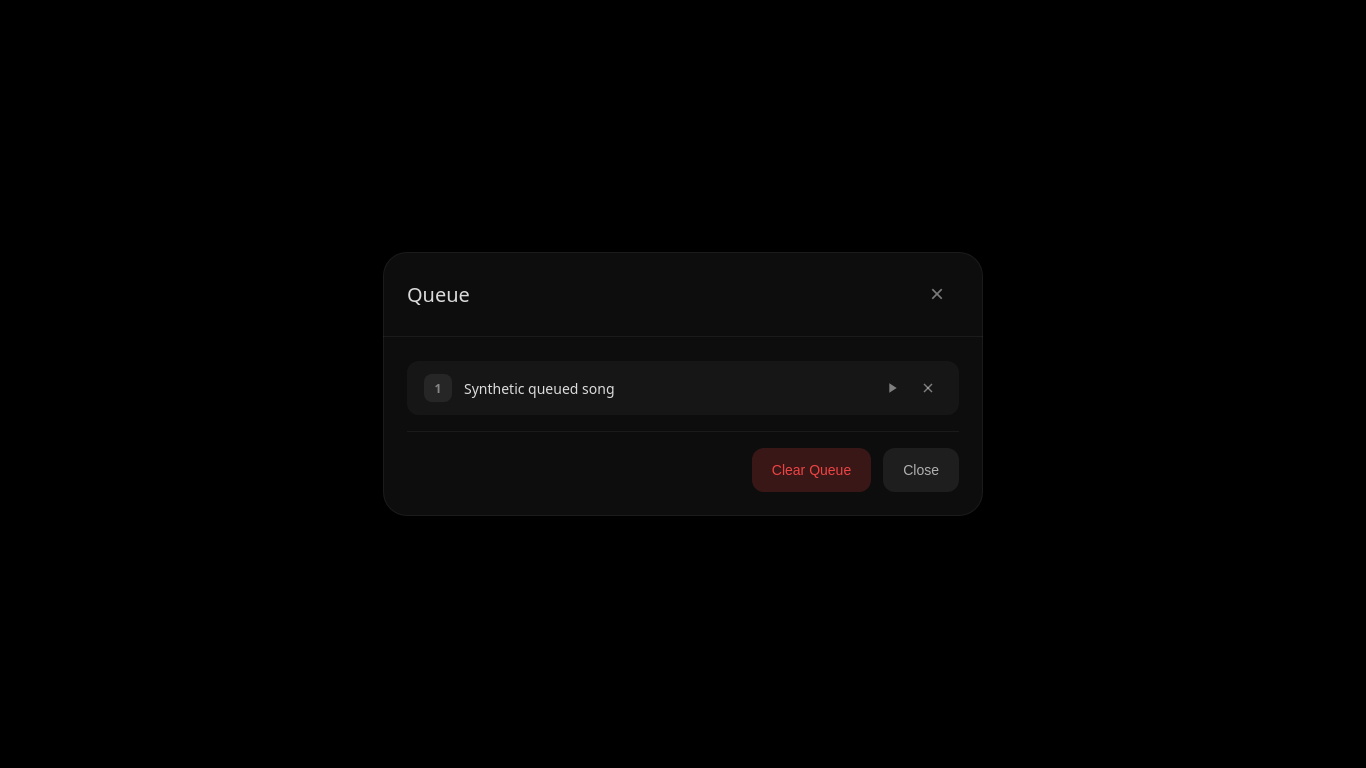
Test: Queue action refusal through the real API adapter › preserves confirmed data and exposes a refused remove operation
Expected: the text "Synthetic queued song" is shown, [464,378,614,398]
What coordinates should you click on to do the following:
click the button named "Remove Synthetic queued song from queue"
I would click on:
 (928, 388)
Its box is [914,374,942,402].
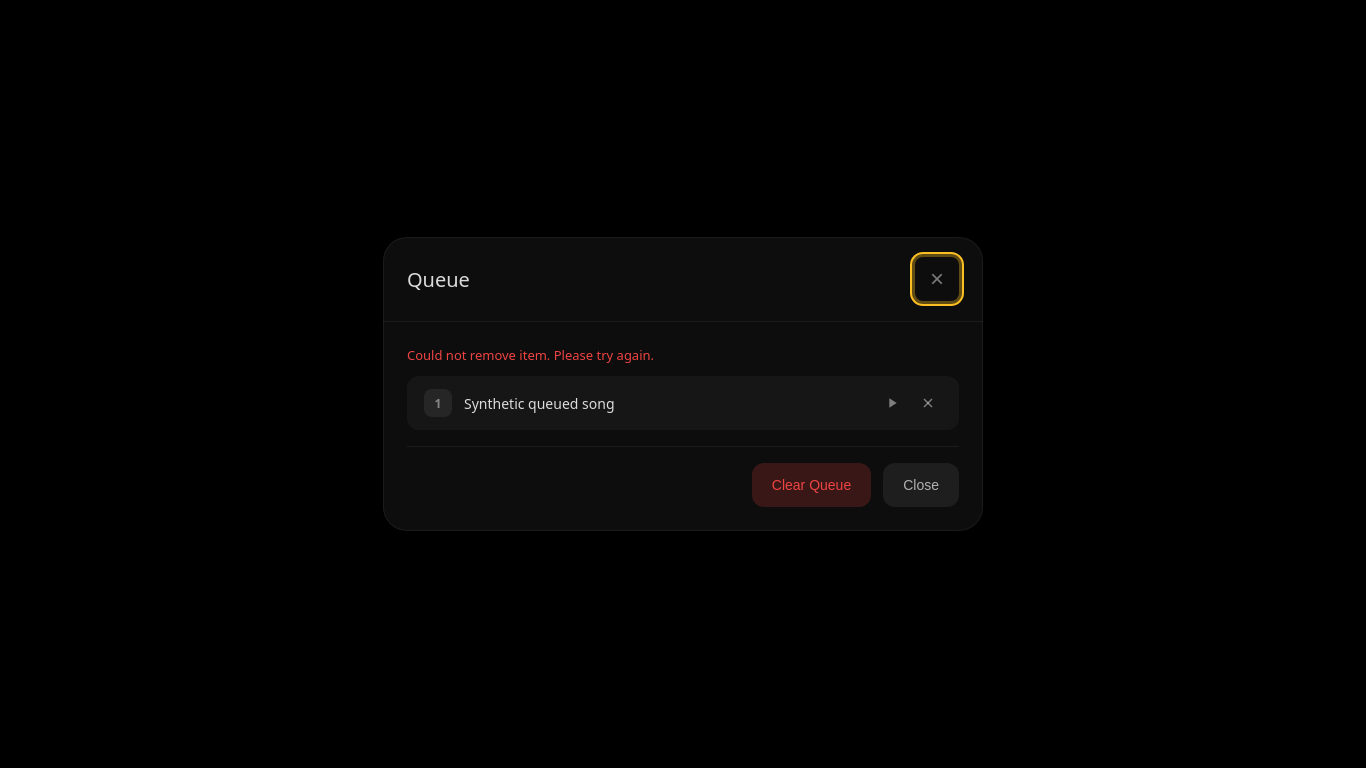
Expected: the text "Synthetic queued song" is shown, [464,394,614,412]
Expected: the text "Could not remove item. Please try again." is shown, [407,346,654,364]
